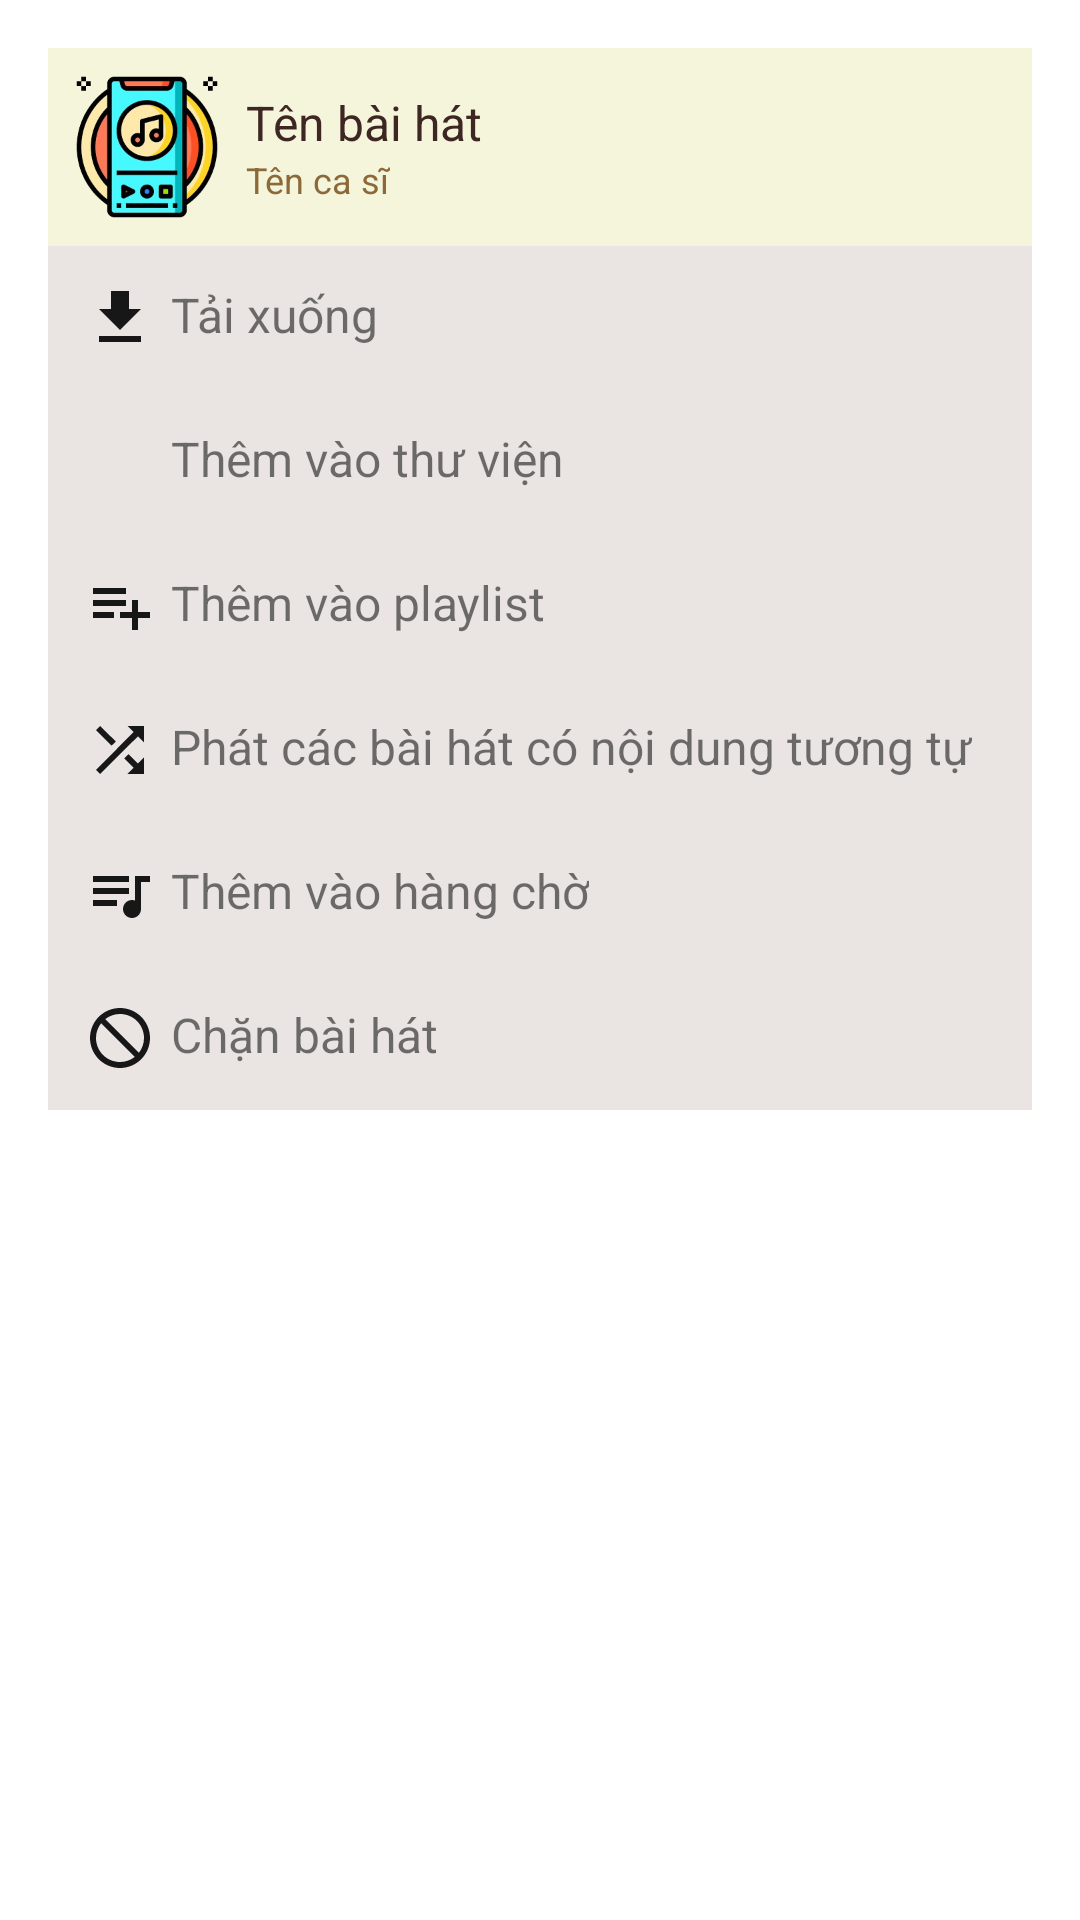

Screen size 1080*1920. Icon name, then its box in pixels as (x1, y1, x2, y2):
block: (90, 1008, 150, 1068)
download: (99, 291, 141, 342)
playlist add: (93, 588, 150, 630)
queue: (93, 876, 150, 918)
similar song: (96, 726, 144, 774)
